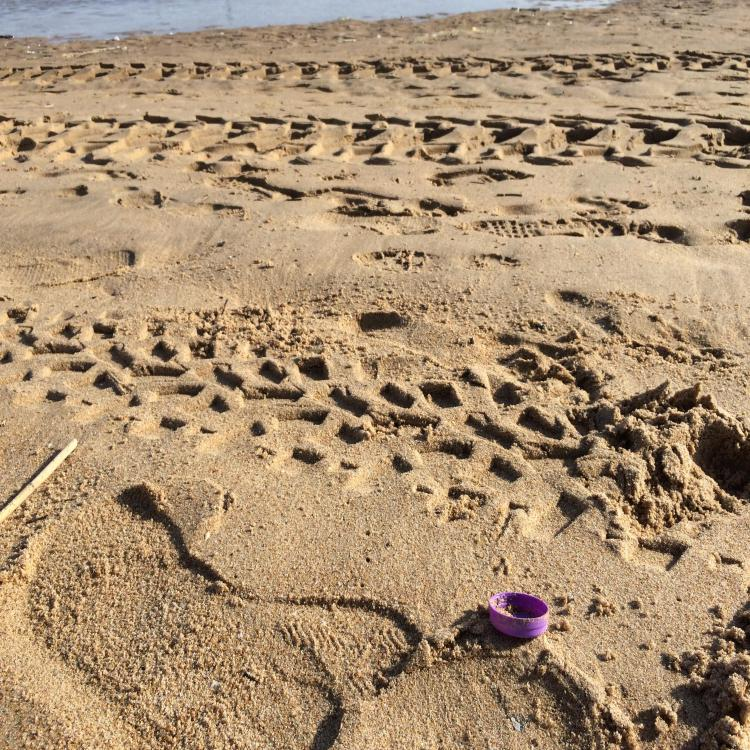Plastic bottle cap: (489, 592, 549, 638)
